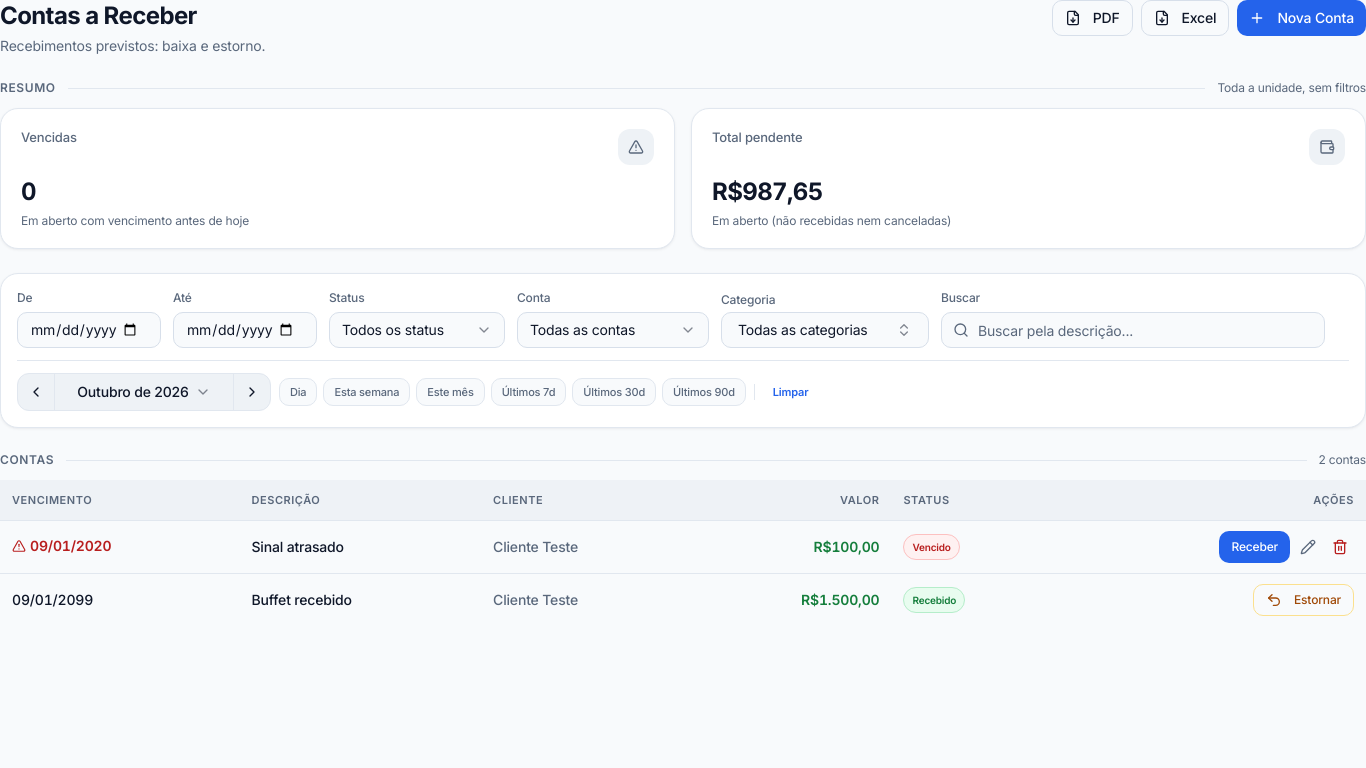
Test: Contas a Receber (V2) › "Receber" só abre o diálogo de recebimento
Click the button with aria-label "Receber Sinal atrasado". click: (1255, 546)
box: [1220, 530, 1290, 562]
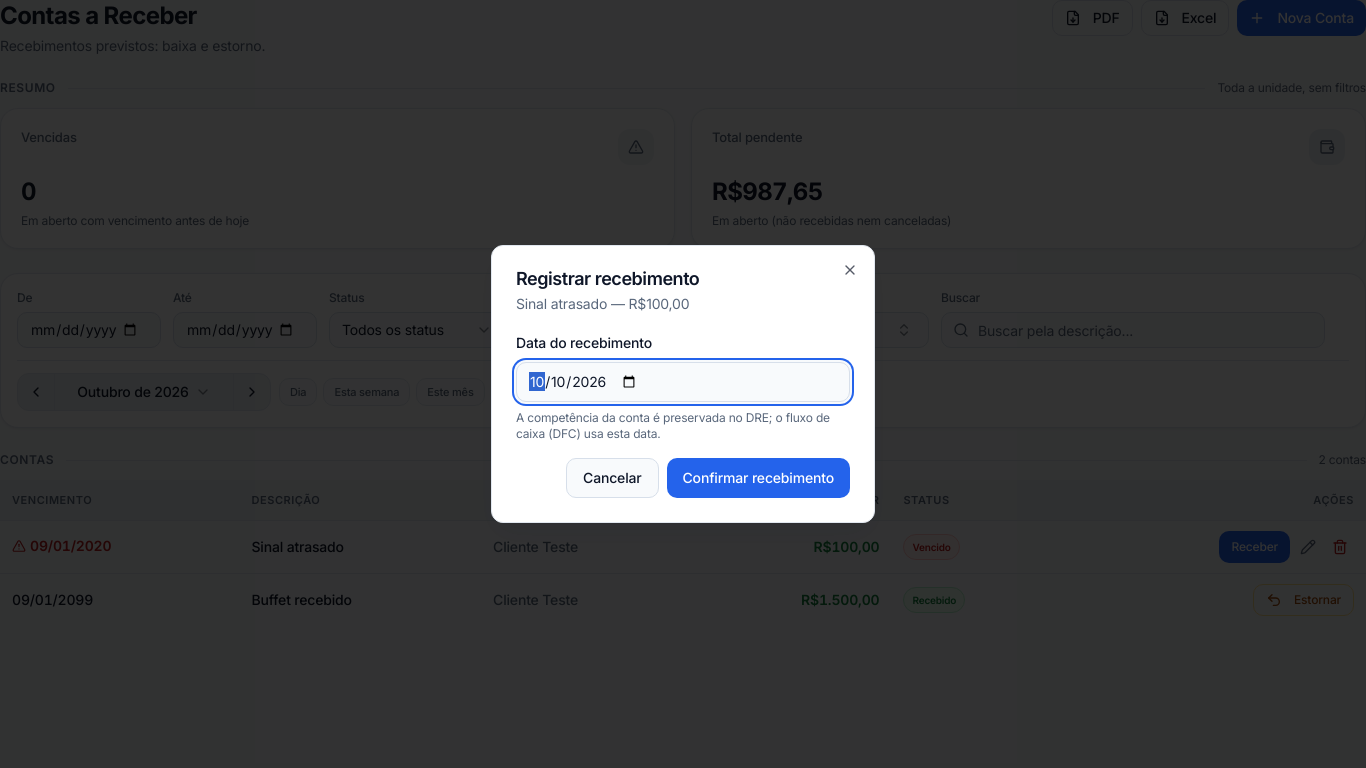
Expected: the date field labelled "Data do recebimento" is shown, [516, 362, 850, 402]
